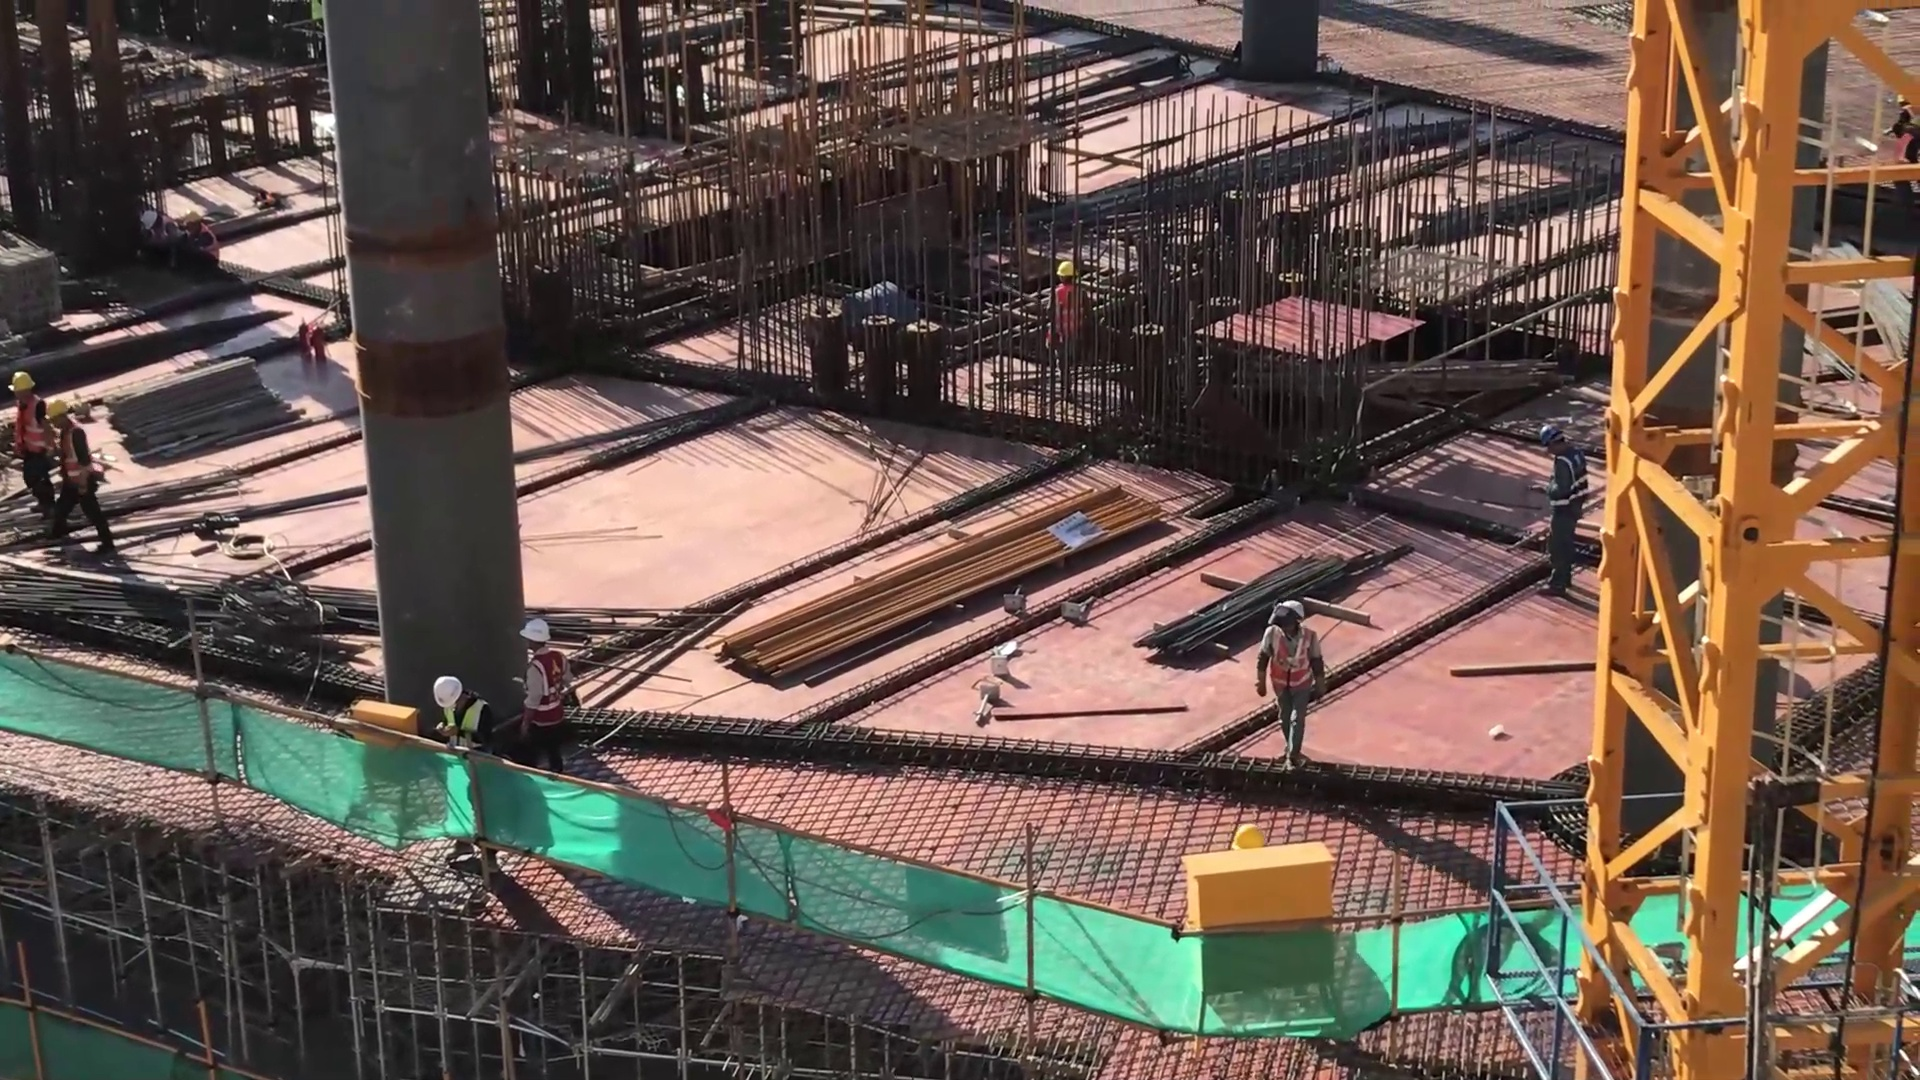ebox: (1160, 831, 1346, 926)
helmet: (426, 672, 465, 711), (519, 609, 551, 654), (1267, 598, 1307, 630), (42, 394, 72, 426), (7, 368, 36, 398), (1538, 423, 1564, 451)
person: (1246, 593, 1342, 773), (428, 668, 501, 888), (1528, 416, 1597, 622), (507, 605, 585, 784), (39, 387, 115, 563), (4, 361, 60, 538)
vest: (529, 655, 575, 737), (1269, 626, 1317, 697), (1549, 450, 1593, 519), (444, 698, 493, 754), (13, 405, 47, 459), (56, 430, 85, 488)
